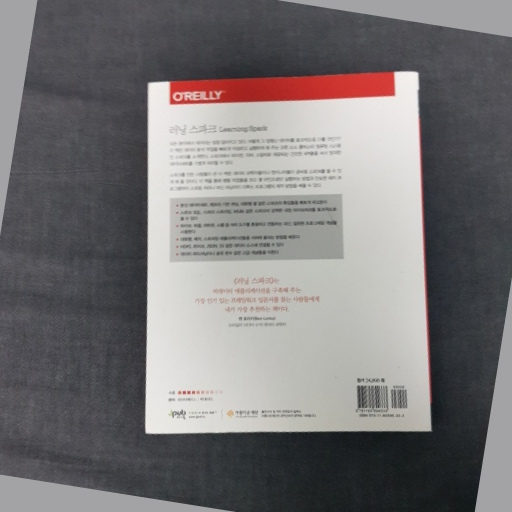Paper_0: (139, 69, 444, 438)
